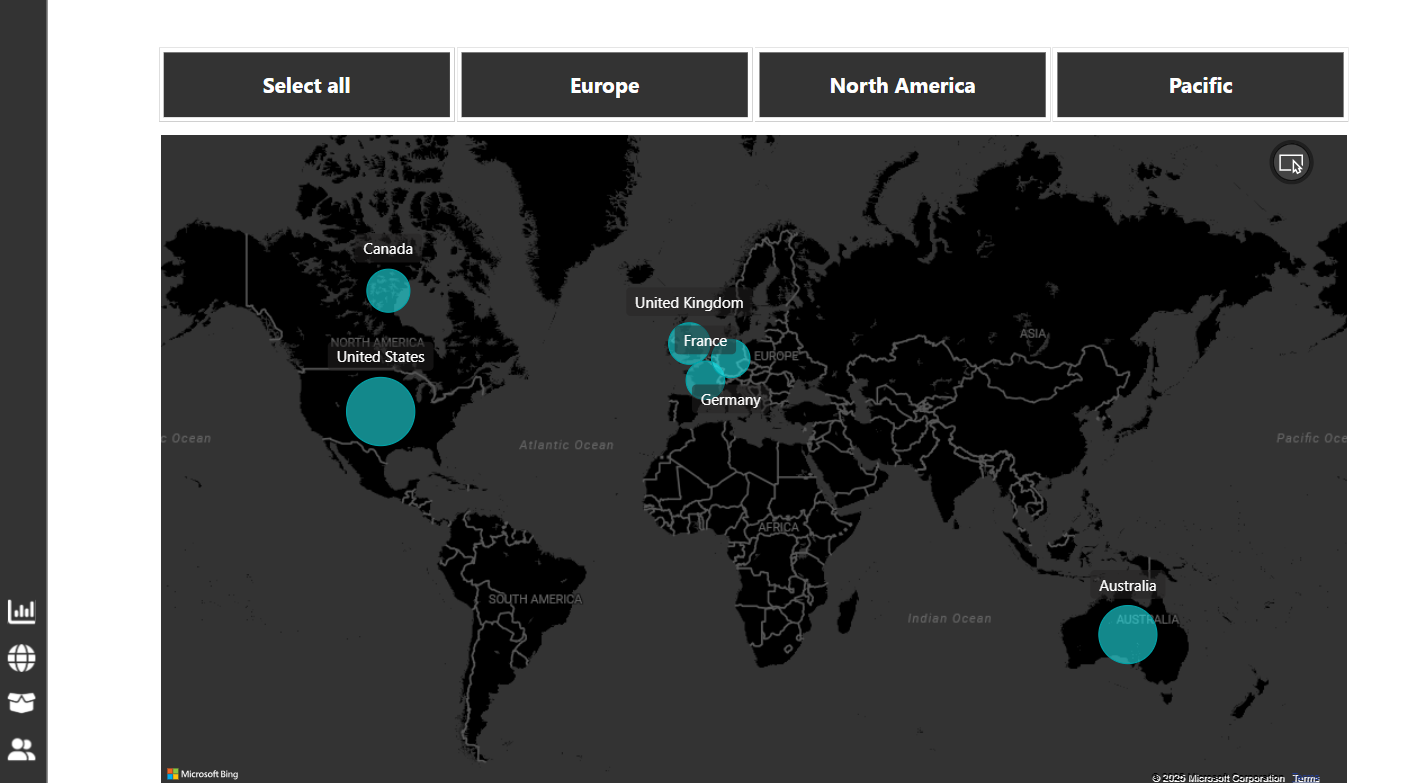

The page's visual inventory and layout, read from the dashboard file:
{"tool":"powerbi","page":{"name":"Map","canvas":[1280,720],"ordinal":1},"visuals":[{"type":"shape","box":[0,0,45,720.5],"z":0},{"type":"actionButton","box":[5.1,540.5,49.5,32.6],"z":1000,"group":"g1"},{"type":"map","fields":{"Size":["Measure Table.Total Orders"],"Category":["Territory Lookup.Country"]},"box":[141.1,127.8,1064.4,592.2],"z":1000},{"type":"actionButton","box":[5.1,581.1,49.5,32.6],"z":2000,"group":"g1"},{"type":"slicer","fields":{"Values":["Territory Lookup.Continent"]},"box":[117.5,47.5,1107.5,80],"z":2000},{"type":"actionButton","box":[5.1,621.7,49.5,32.6],"z":3000,"group":"g1"},{"type":"group","id":"g1","title":"Navigation Buttons","box":[5.1,540.5,49.5,154.4],"z":3000},{"type":"actionButton","box":[5.1,662.4,49.5,32.6],"z":4000,"group":"g1"}]}

Visuals, with their boxes on the page's 1280x720 design canvas (x1, y1, x2, y2). These are canvas units, not pixel positions in the 1405x783 screenshot, which may show the page scaled, cropped or inside an application window:
shape: (0, 0, 45, 720)
actionButton: (5, 540, 55, 573)
map - Measure Table.Total Orders x Territory Lookup.Country: (141, 128, 1206, 720)
actionButton: (5, 581, 55, 614)
slicer - Territory Lookup.Continent: (118, 48, 1225, 128)
actionButton: (5, 622, 55, 654)
"Navigation Buttons" group: (5, 540, 55, 695)
actionButton: (5, 662, 55, 695)
